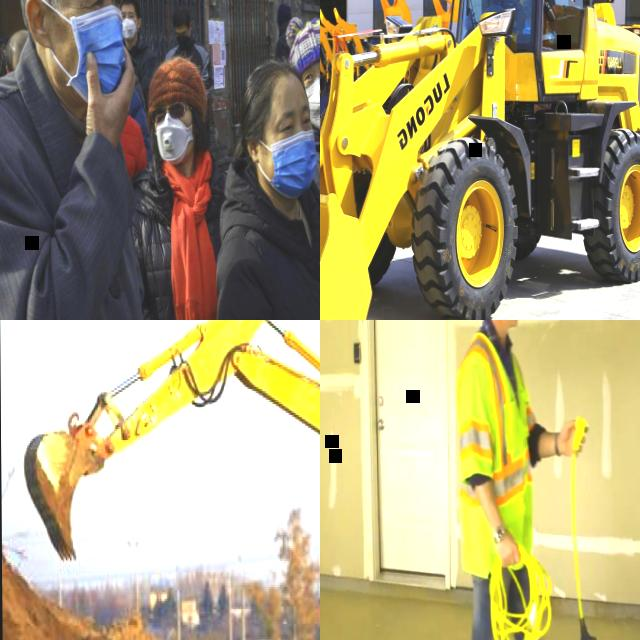Mask: (65, 6, 127, 109), (268, 131, 317, 201), (154, 115, 190, 167), (305, 75, 320, 131), (121, 18, 137, 42), (176, 34, 190, 50)
NO-Hardhat: (241, 61, 307, 120), (147, 57, 207, 110), (287, 16, 320, 68), (8, 29, 28, 66), (170, 5, 190, 26), (276, 2, 292, 18), (0, 48, 11, 71), (121, 0, 139, 7)
NO-Safety Vest: (0, 79, 161, 320), (142, 158, 237, 320), (229, 212, 320, 320), (127, 53, 150, 97), (277, 36, 286, 57)
Person: (439, 320, 592, 640), (288, 17, 320, 320), (273, 5, 294, 64)
Safety Vest: (454, 333, 535, 521)
vehicle: (320, 0, 640, 320), (20, 320, 320, 640), (320, 8, 366, 136), (320, 7, 374, 79)
